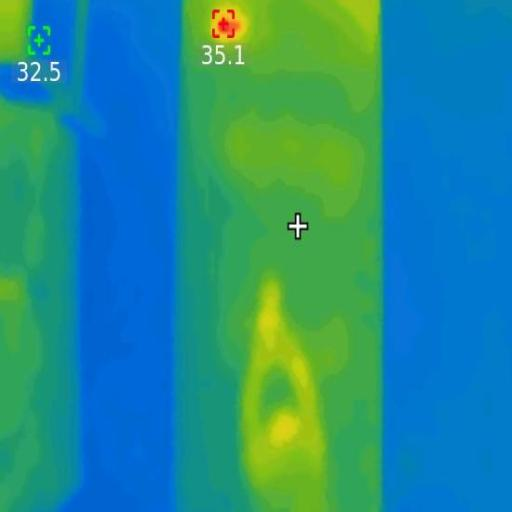hotspot: (215, 20, 241, 40)
